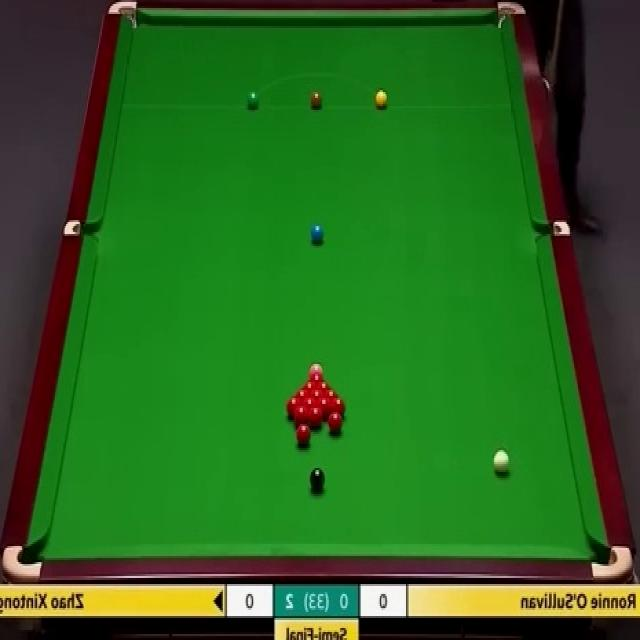black-ball: (310, 466, 325, 492)
blue-ball: (310, 222, 324, 247)
brown-ball: (310, 90, 323, 109)
green-ball: (246, 90, 259, 109)
pink-ball: (309, 362, 325, 378)
red-ball: (328, 413, 344, 435), (296, 423, 310, 446), (287, 398, 303, 418), (316, 398, 330, 420), (331, 398, 346, 418), (295, 388, 310, 408), (294, 405, 308, 426), (310, 407, 322, 429), (310, 388, 323, 407), (302, 380, 318, 395), (317, 380, 330, 397), (324, 388, 337, 404)
white-ball: (492, 449, 511, 478)
yellow-ball: (375, 90, 388, 109)
